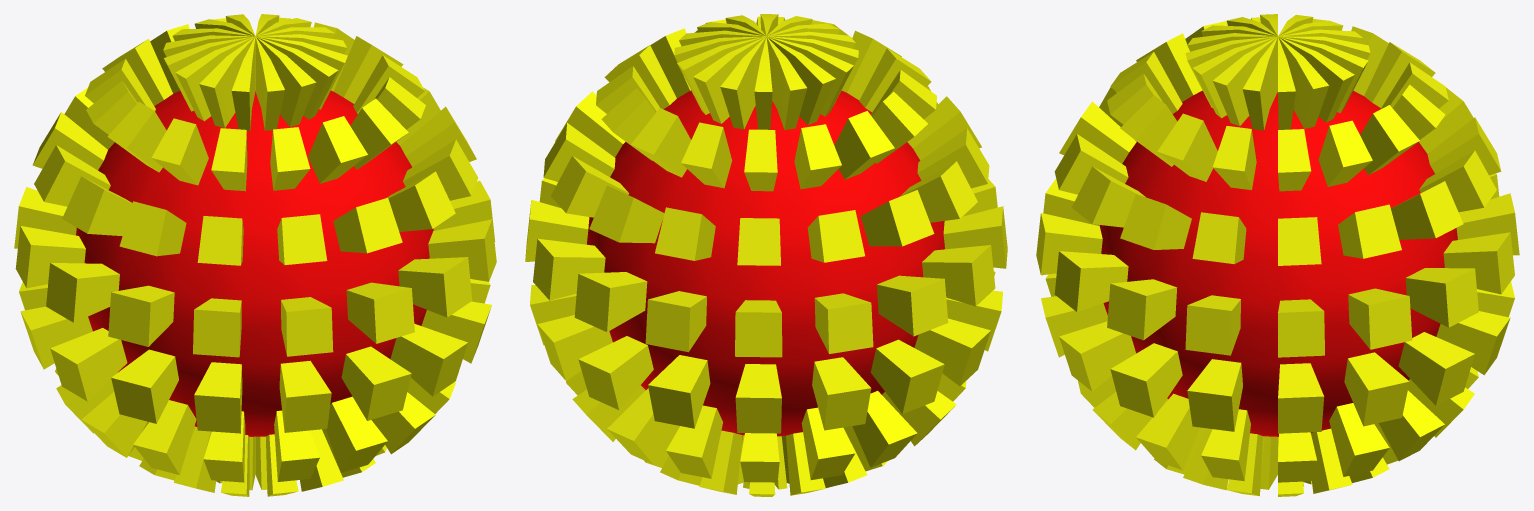
3 renders of one model, left to right at view 1: azimuth 30°, elevation 25°; view 2: azimuth 150°, elevation 25°; view 3: azimuth 270°, elevation 25°, orthographic.
Parts seen in each view (by area): view 1: Объект_Сфера; view 2: Объект_Сфера; view 3: Объект_Сфера.
Boxes of the visible parts, <box> form: Объект_Сфера: <box>14,14,496,496</box>; Объект_Сфера: <box>525,14,1007,496</box>; Объект_Сфера: <box>1036,14,1519,496</box>.
Size of the model in its own units: 100 by 100 by 100.
